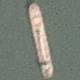ship: (0, 0, 18, 40)
